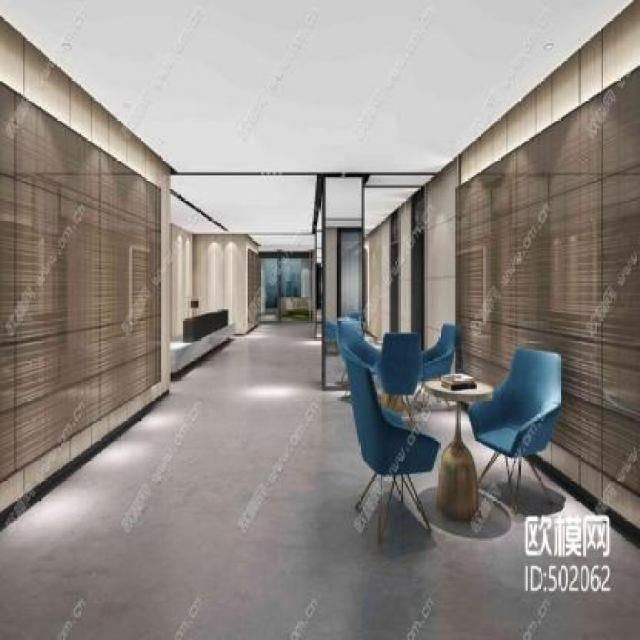frontdesk: (165, 305, 240, 390)
